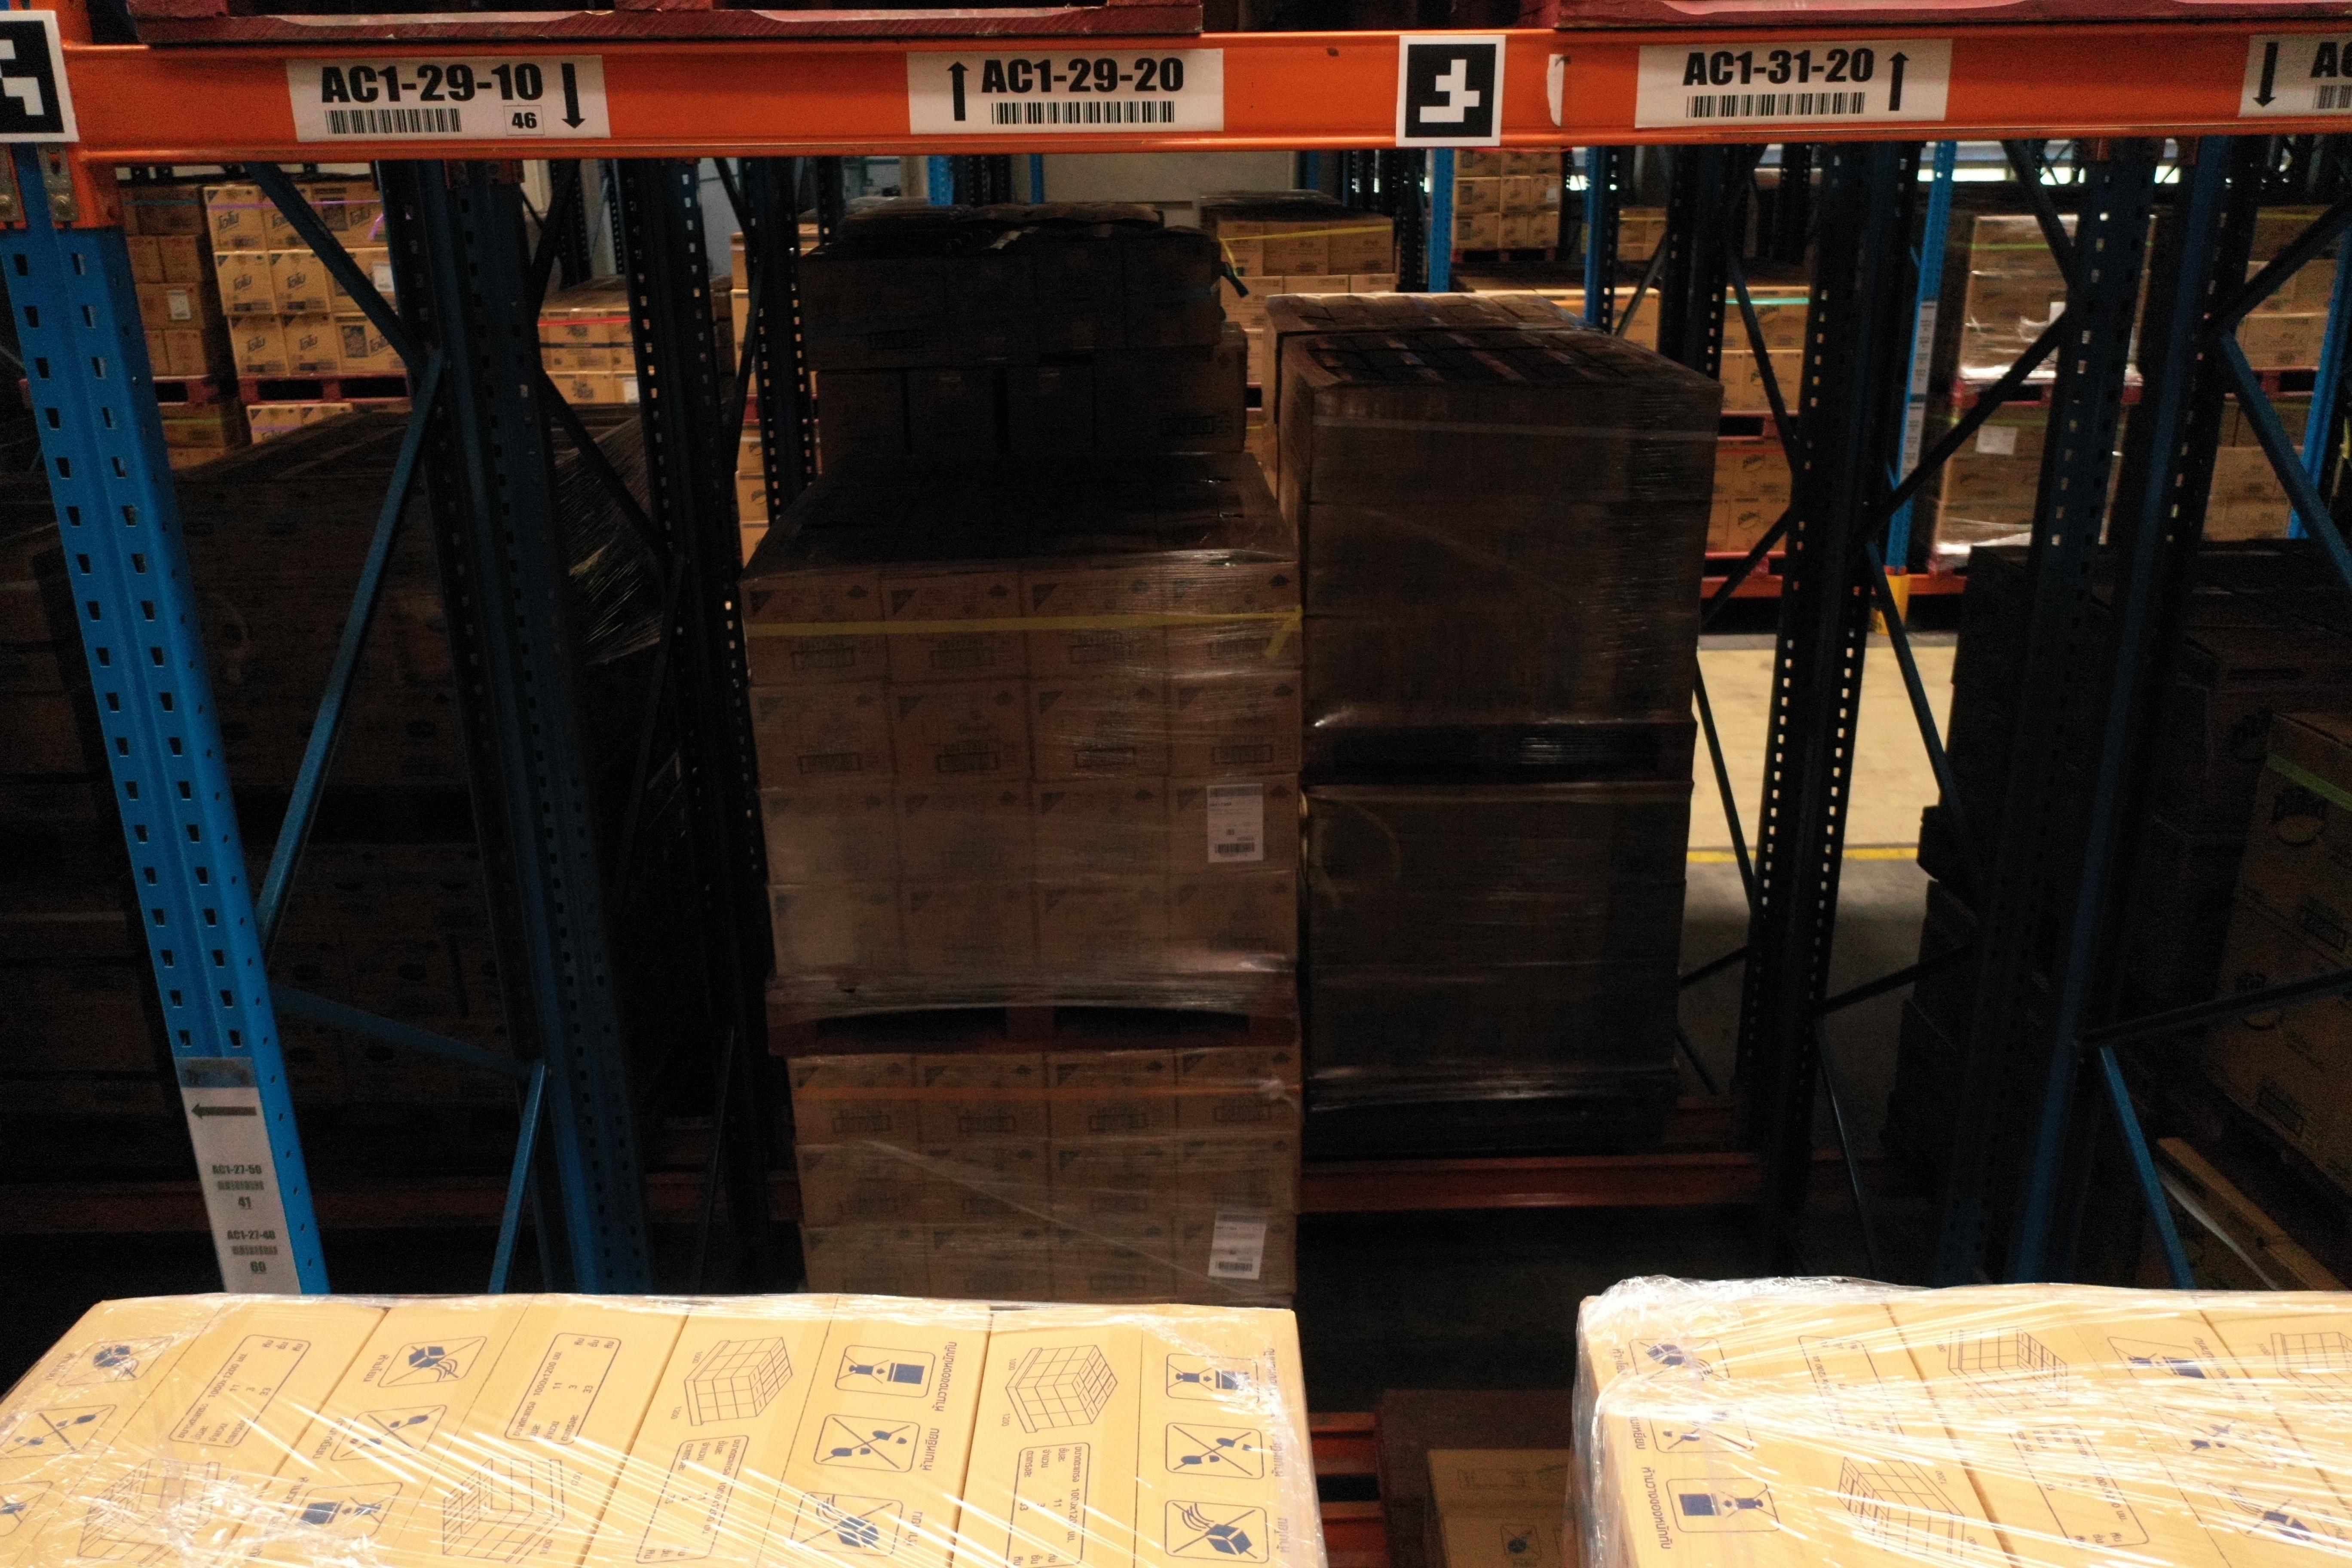box: (747, 681, 901, 793), (737, 572, 889, 684), (882, 569, 1025, 681), (1025, 672, 1171, 780), (1160, 565, 1302, 675), (889, 677, 1034, 782), (770, 878, 908, 989), (1020, 569, 1167, 672), (1165, 670, 1302, 779), (896, 780, 1038, 884), (1038, 873, 1178, 976), (901, 882, 1043, 982), (765, 786, 903, 885), (1031, 780, 1171, 877), (1171, 775, 1302, 873), (1174, 873, 1300, 973), (1046, 1048, 1179, 1143), (915, 1052, 1052, 1143), (794, 1052, 924, 1143), (1178, 1046, 1302, 1139), (922, 1139, 1053, 1227), (798, 1141, 924, 1232), (1046, 1143, 1178, 1227), (1174, 1141, 1300, 1223), (1048, 1223, 1178, 1302), (929, 1225, 1055, 1304), (1174, 1223, 1298, 1298), (803, 1225, 933, 1297)
